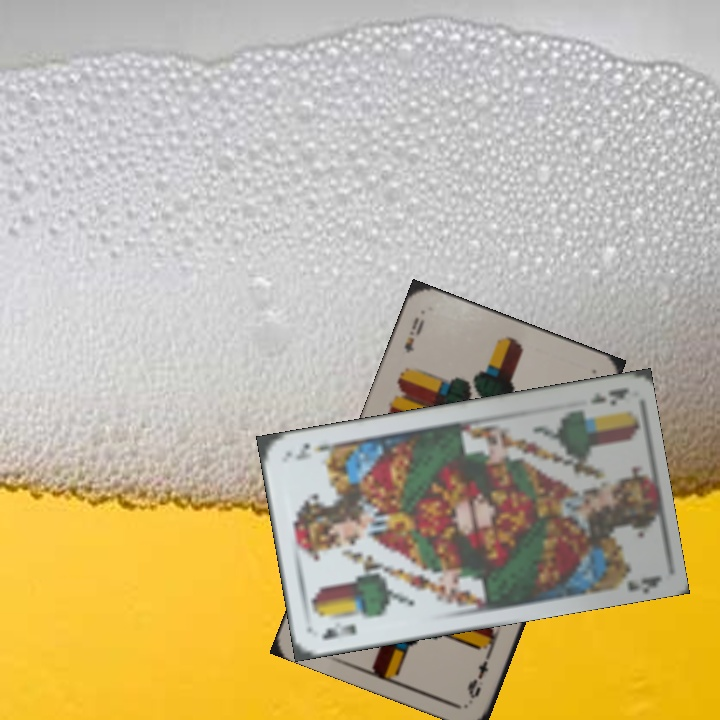E9: (463, 645, 495, 702), (399, 313, 428, 356)
EK: (586, 383, 628, 408), (319, 619, 359, 643)
